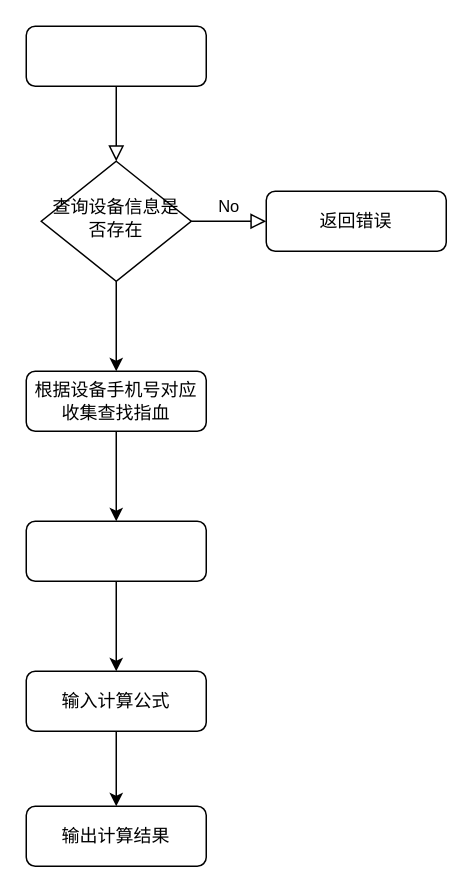
The diagram is 473 pixels wide and 893 high, and some of its shapes have lost their labels. Here are the shapes that lost their labels. From the top down, the centre of each, then its label:
At (x=115, y=55): "输入单设备或多设备信息".
At (x=115, y=550): "根据设备名称查找血糖值".
